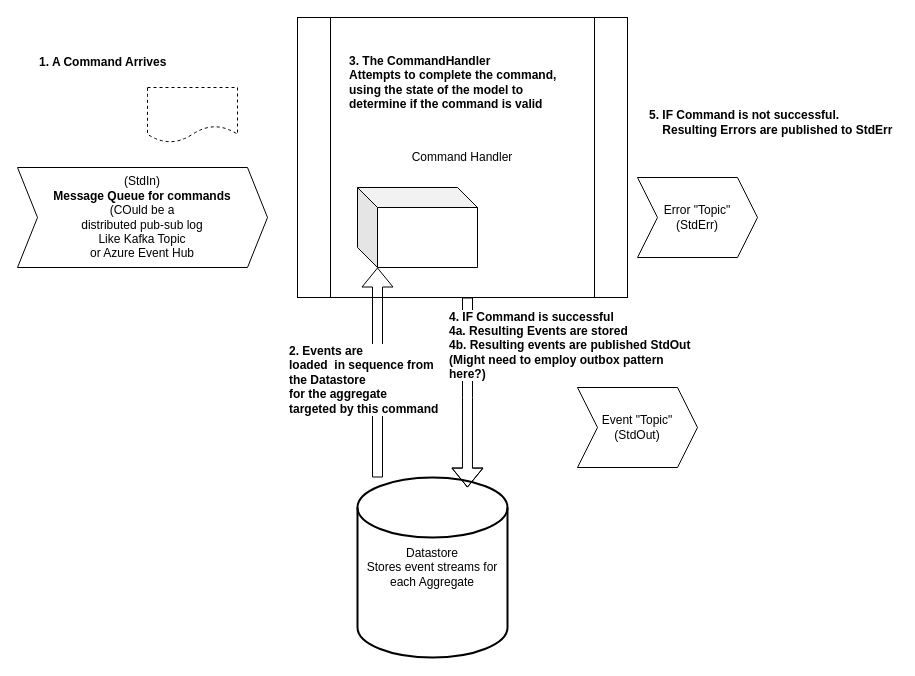
This 915x676 diagram has some shape labels left out. Here are the shapes that lost their labels. From the top down, the centre of each, then its label:
At pixel 192 114: "Command For: AggregateId: 1234".
At pixel 417 227: "Model".
